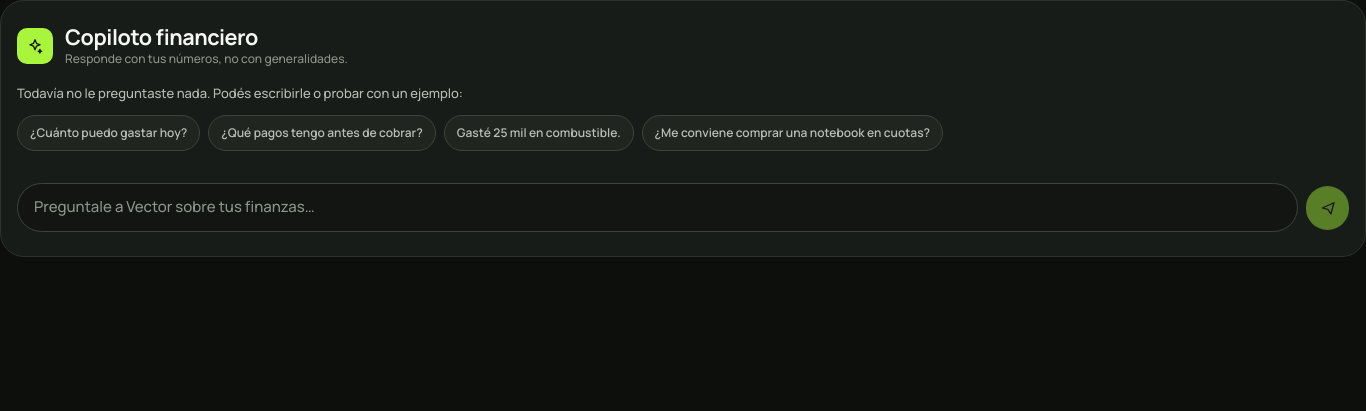
Test case: CopilotPanel › los ejemplos desaparecen una vez que hay conversación
This screenshot has width=1366, height=411.
Click the button "¿Cuánto puedo gastar hoy?". click: (109, 133)
box: x1=17 y1=115 x2=200 y2=151
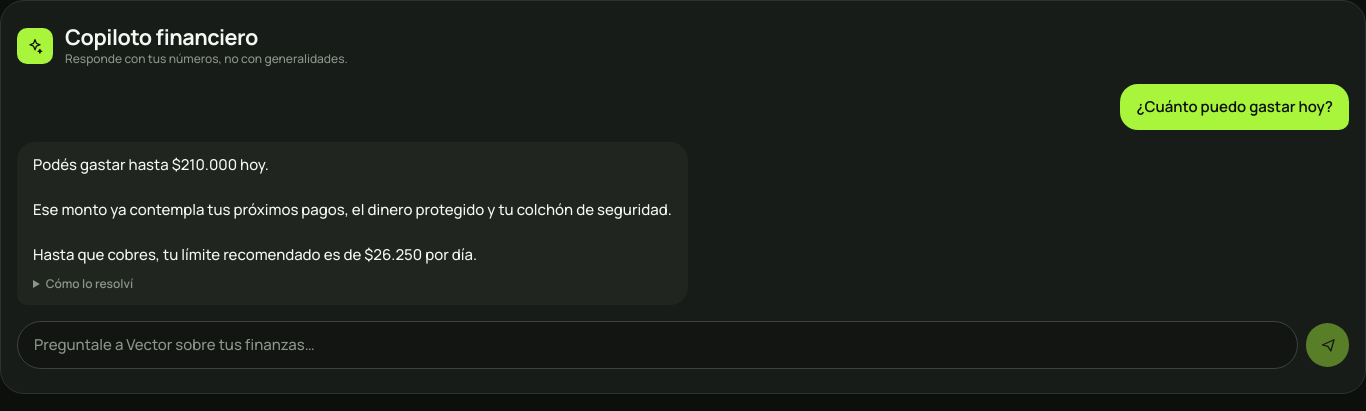
Result: the text "Podés gastar hasta" is shown at x1=33 y1=154 x2=672 y2=265
Result: the text "Todavía no le preguntaste nada" is gone
Result: the button "Gasté 25 mil en combustible." is gone
